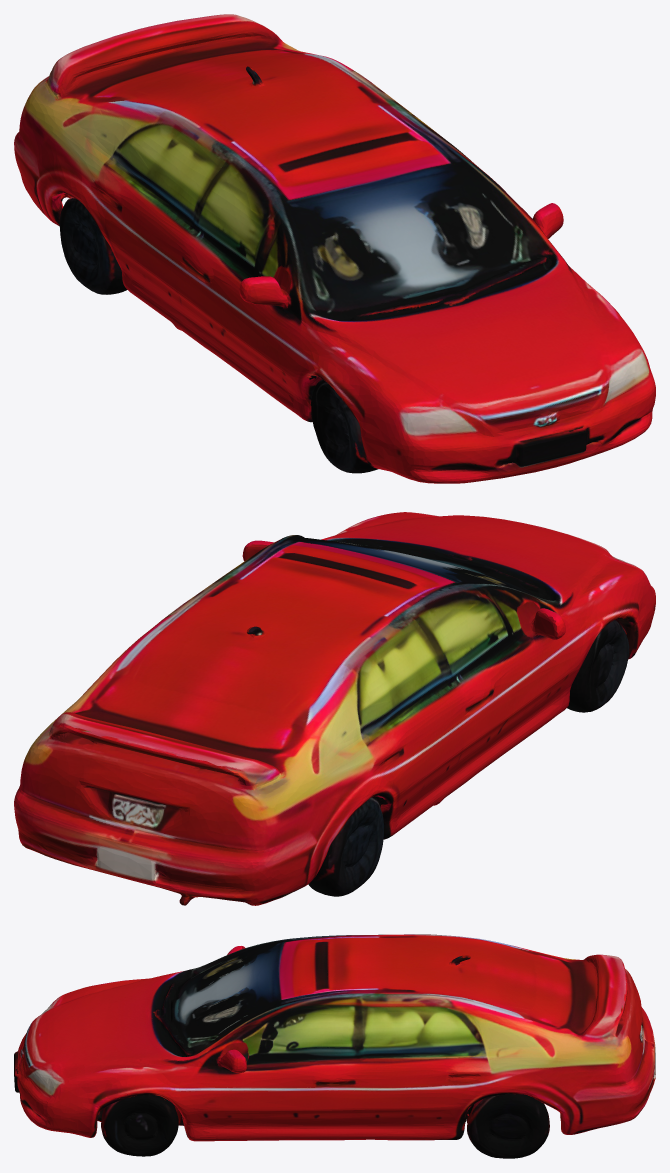
3 views of the same model, one above another, from view 1: azimuth 30°, elevation 25°; view 2: azimuth 150°, elevation 25°; view 3: azimuth 270°, elevation 25° (orthographic). The views are drawn at different scales.
Visible parts, largest first — view 1: textured_mesh; view 2: textured_mesh; view 3: textured_mesh.
Boxes of the visible parts, bbox=[...] form: textured_mesh: bbox=[14, 14, 655, 483]; textured_mesh: bbox=[14, 512, 655, 905]; textured_mesh: bbox=[14, 934, 655, 1158].
Bounding box in the file's own units: 0.8487 × 0.5399 × 1.99.
Materials: 1 (1 with a texture image).
